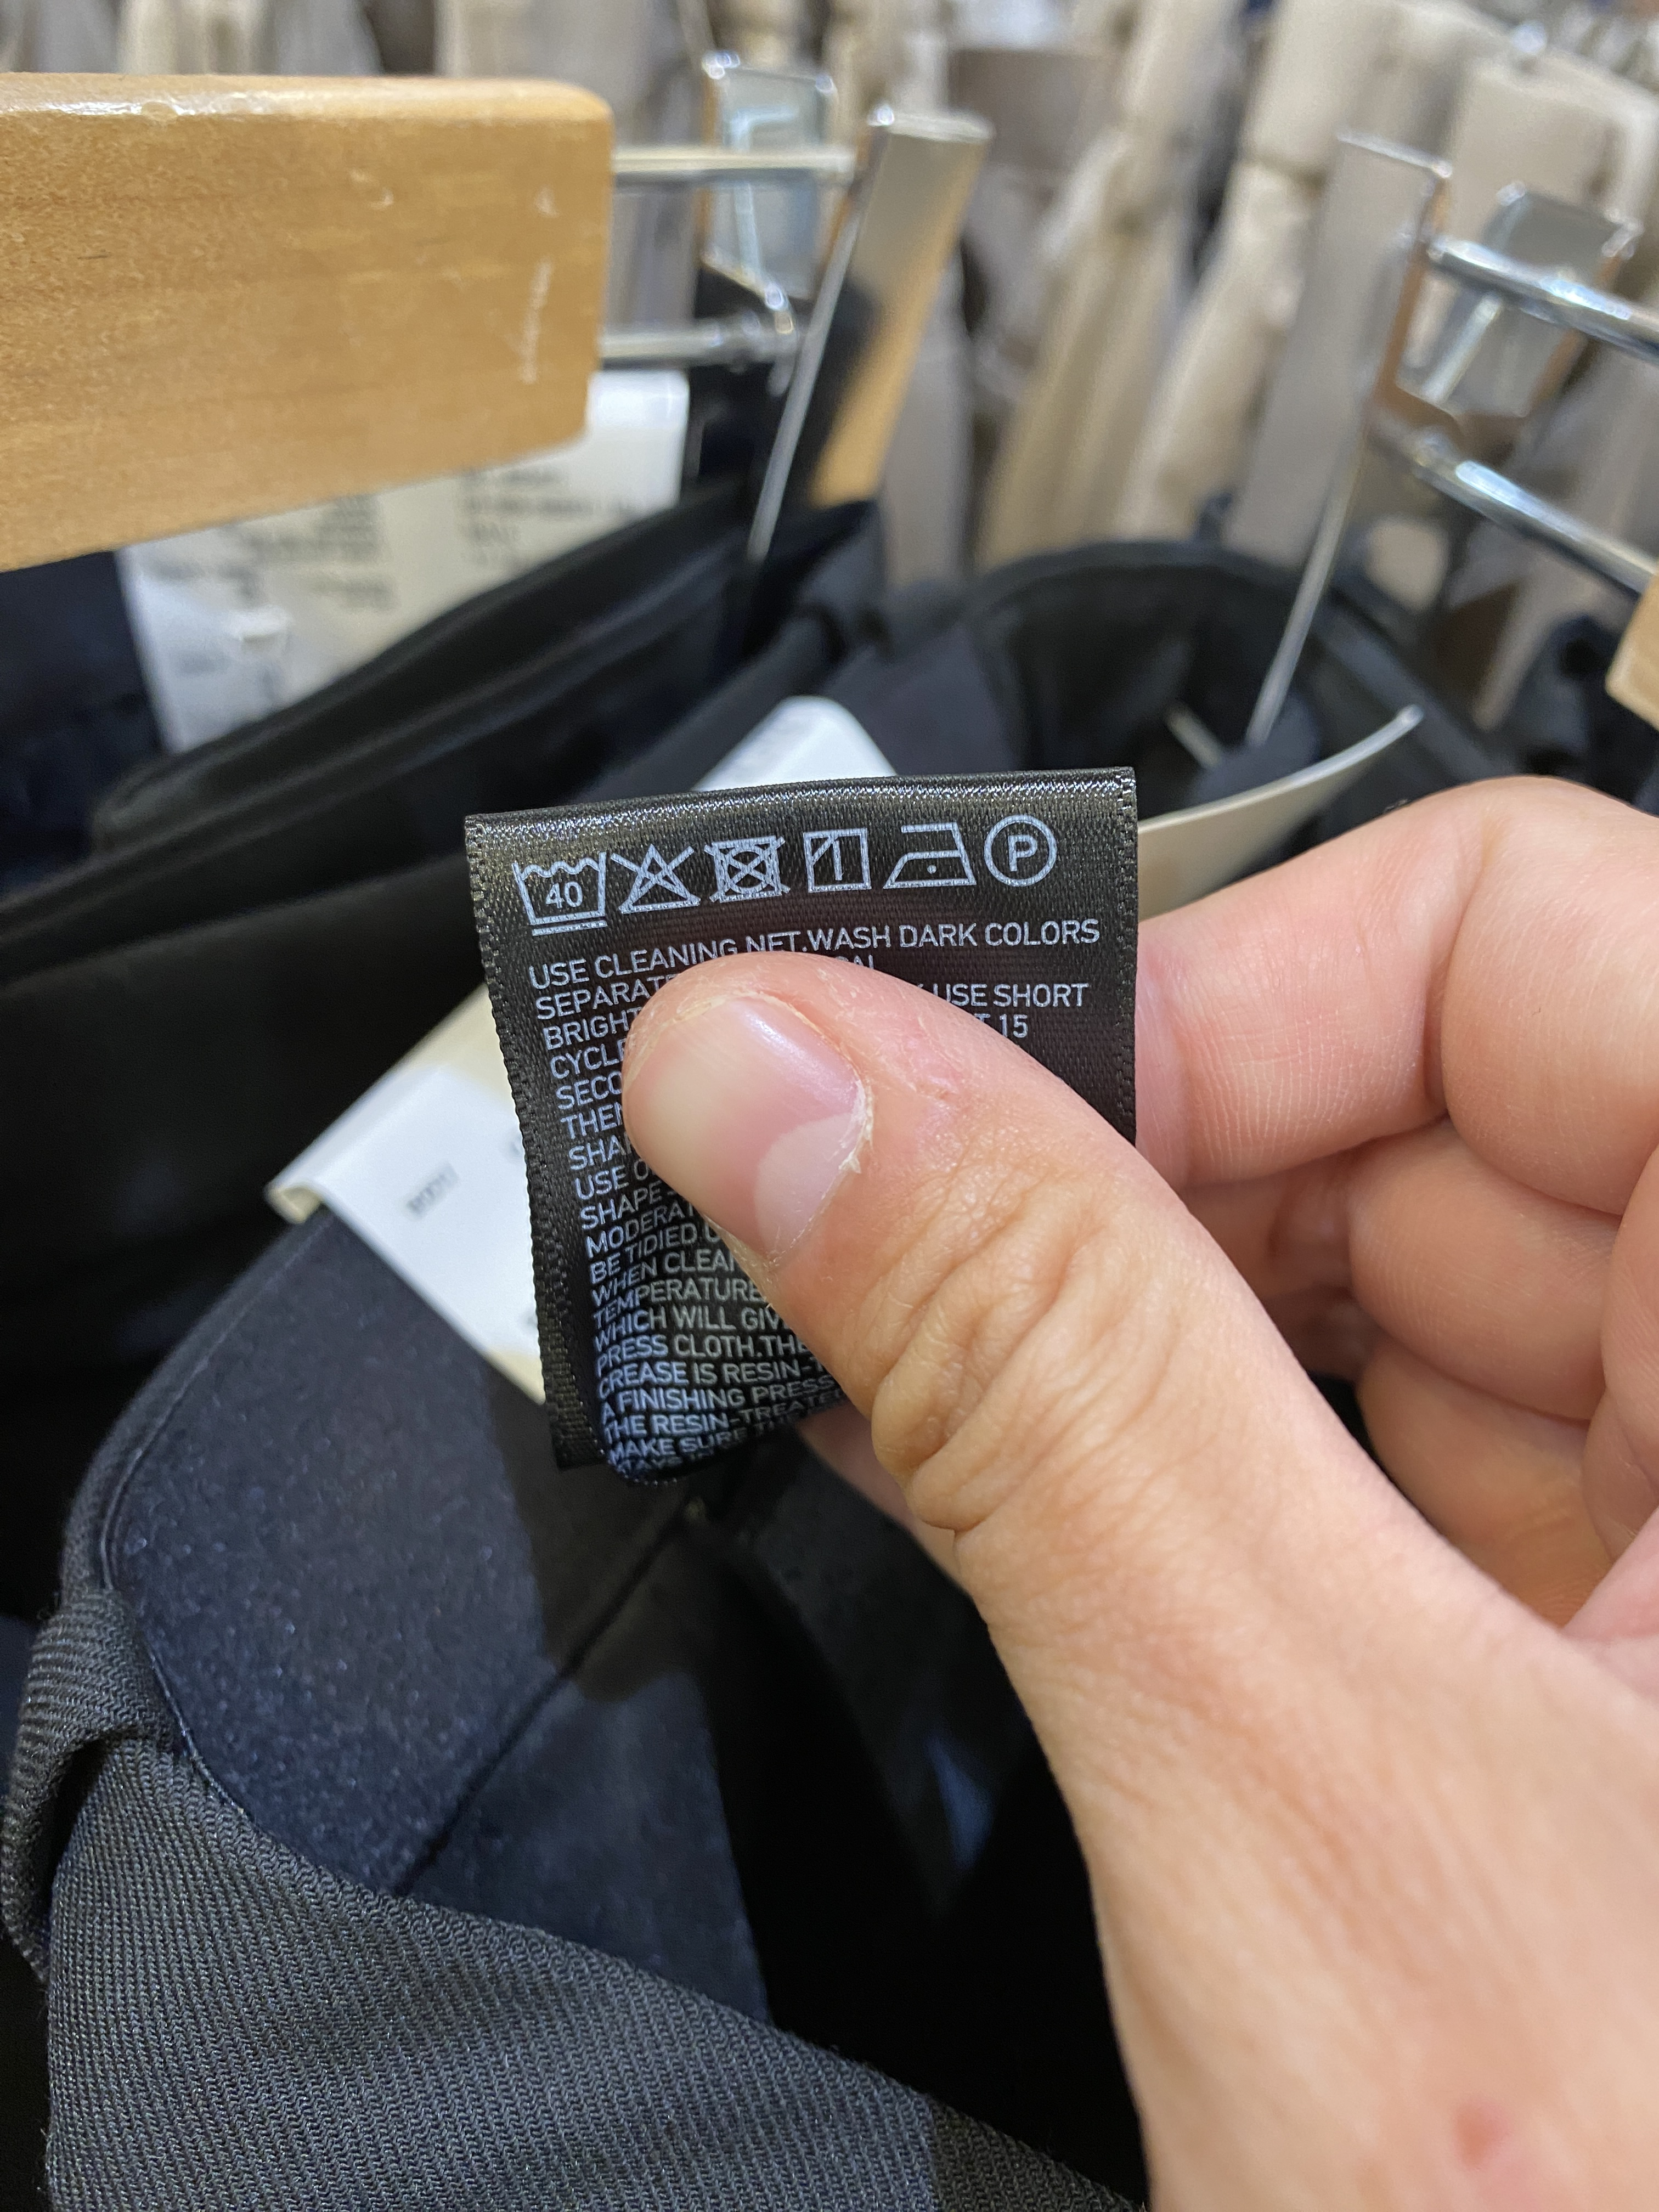tag: (462, 752, 1141, 1493)
